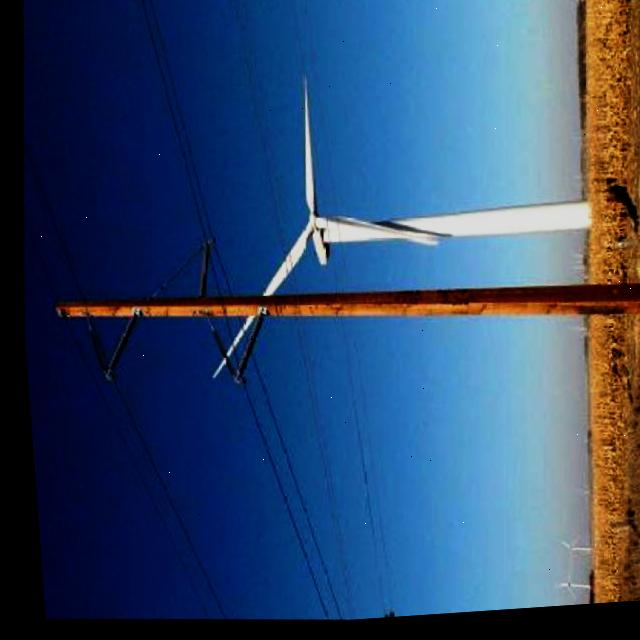poles: (36, 222, 633, 439)
wires: (219, 322, 341, 624), (72, 363, 214, 616), (138, 0, 211, 305), (26, 111, 83, 305)
